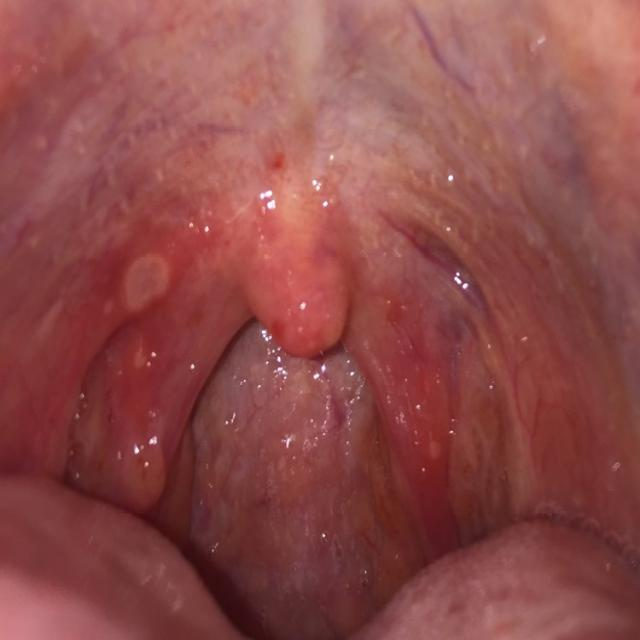Non Pharyngitis: (53, 203, 560, 593)
